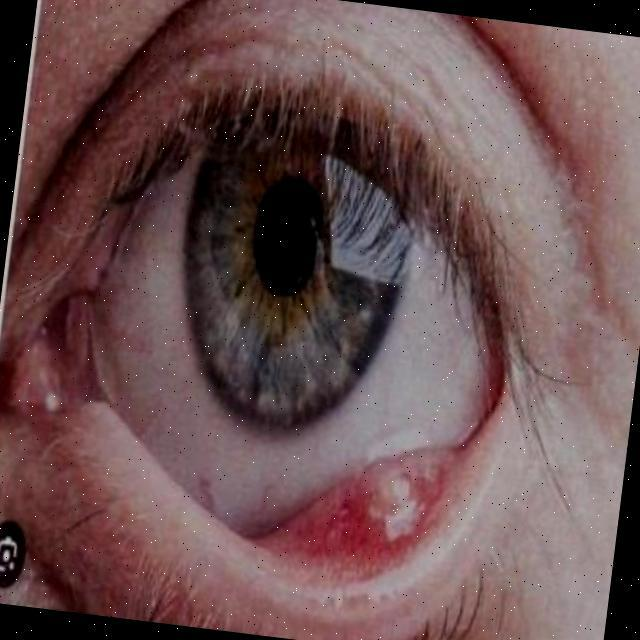Stye: (282, 361, 514, 624)
